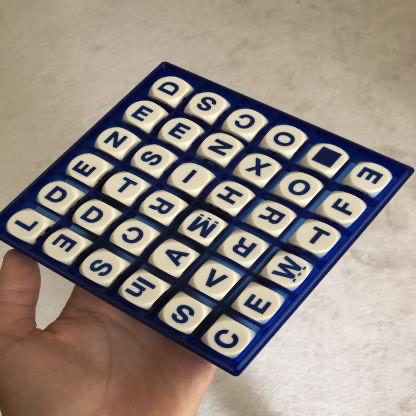a: (154, 243, 196, 273)
c: (207, 322, 250, 355), (115, 222, 153, 250), (228, 110, 266, 135)
d: (75, 201, 116, 230), (40, 183, 76, 209), (153, 78, 188, 101)
e: (239, 288, 281, 320), (46, 231, 84, 261), (352, 164, 391, 192), (69, 155, 107, 181), (127, 101, 164, 127), (163, 119, 200, 144)
f: (323, 193, 367, 224)
h: (211, 184, 251, 212)
i: (172, 164, 211, 191)
in: (123, 274, 164, 304)
l: (8, 212, 46, 239)
m: (184, 213, 226, 242)
n: (203, 135, 242, 161), (99, 128, 135, 154)
o: (268, 126, 307, 153), (282, 174, 321, 201)
r: (225, 233, 264, 263), (144, 192, 183, 220), (253, 204, 292, 232)
s: (164, 298, 207, 330), (82, 254, 123, 284), (135, 146, 173, 171), (190, 93, 226, 118)
t: (297, 223, 340, 252), (106, 173, 144, 200)
v: (194, 263, 238, 297)
w: (267, 255, 309, 286)
wild: (308, 144, 348, 172)
x: (240, 155, 278, 182)
